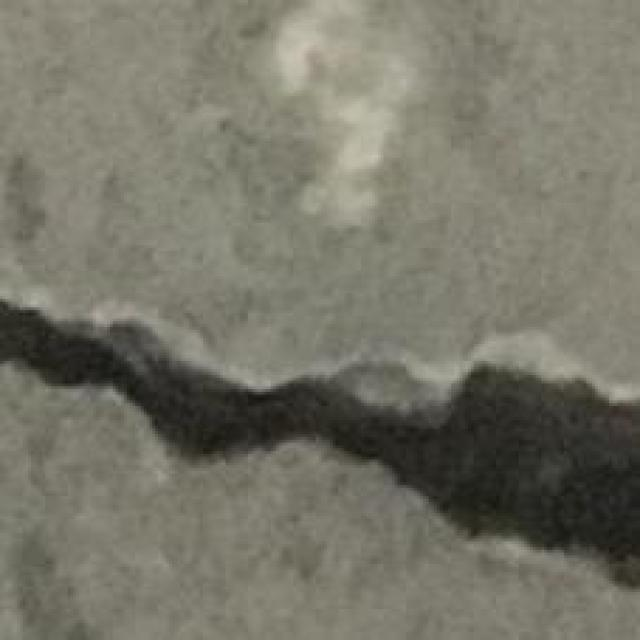Crack: (3, 290, 640, 590)
